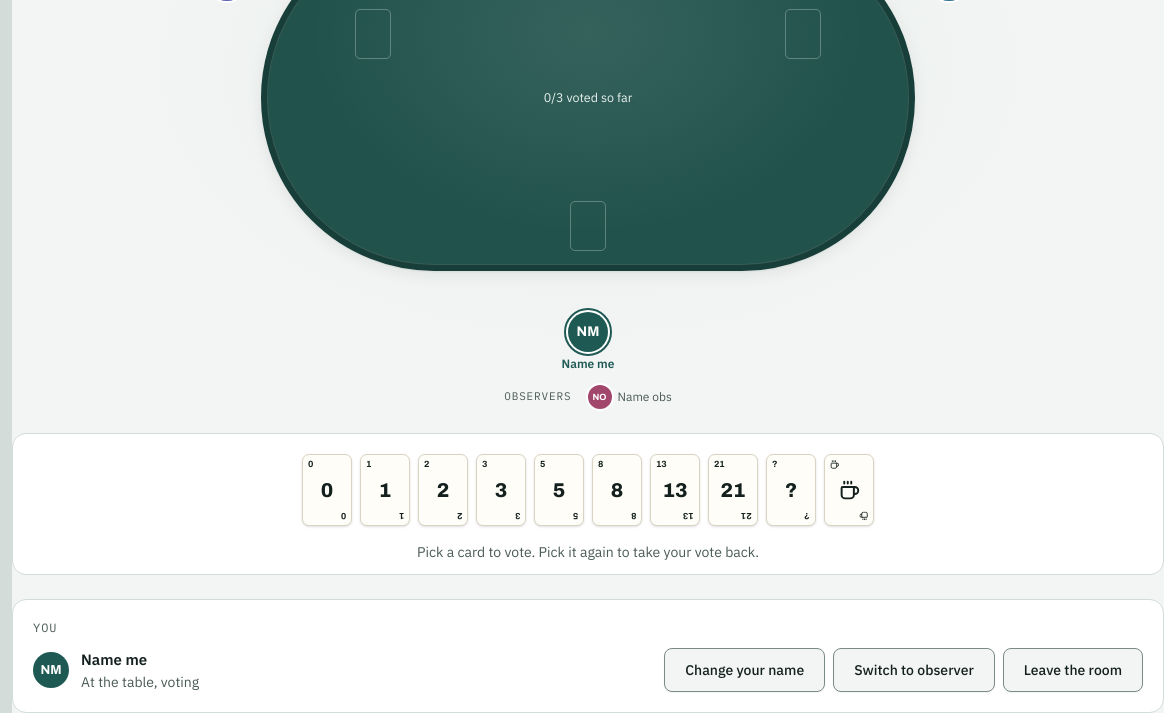
Test: the hand › says a take-back refused after the reveal as a refused vote
This screenshot has width=1164, height=713.
(page scrolled)
Expected: the heading "You" is shown, top-left (33, 620), bottom-right (58, 635)
Click the button "5" at (559, 490), box top-left (534, 454), bottom-right (584, 526)
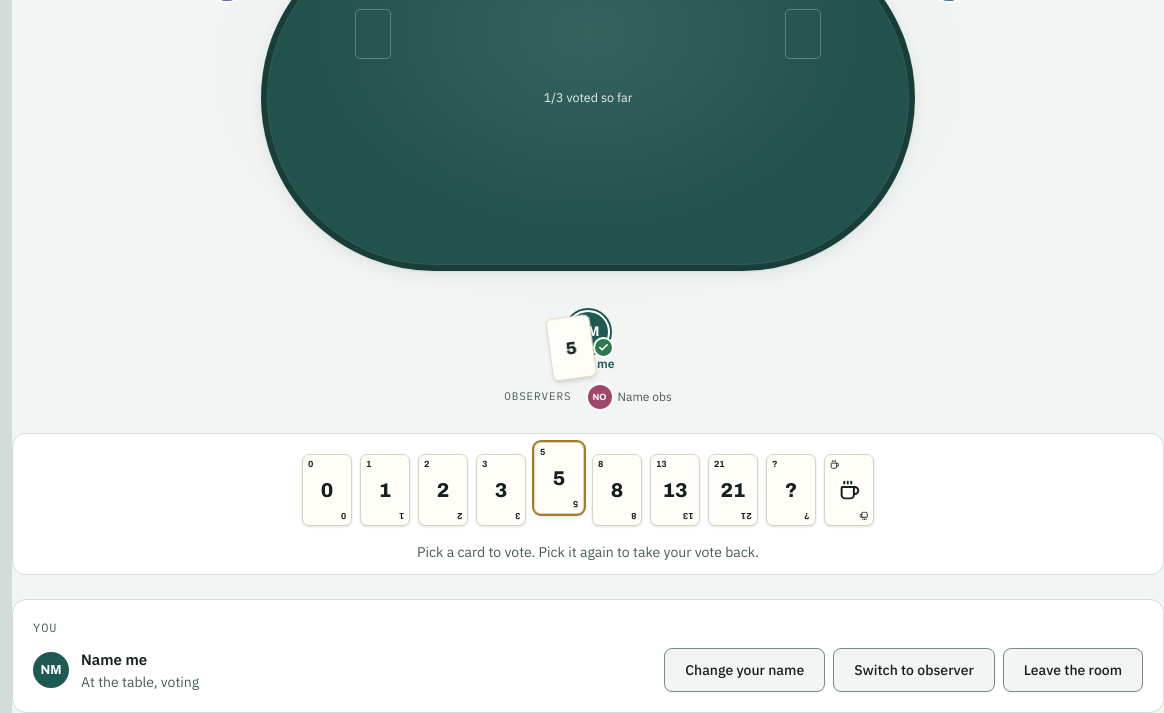
Click the button "5" at (559, 478), box top-left (534, 442), bottom-right (584, 514)
(page scrolled)
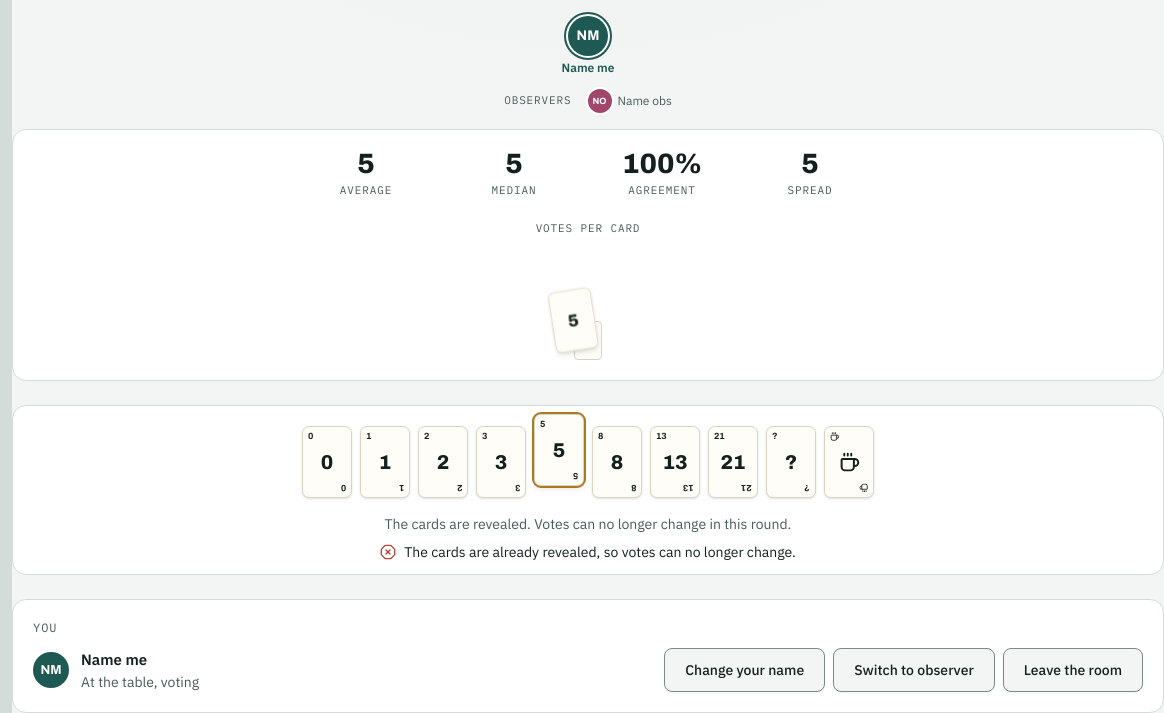
Now the text "The cards are already revealed, so votes can no longer change." is shown, box top-left (380, 543), bottom-right (796, 561)
